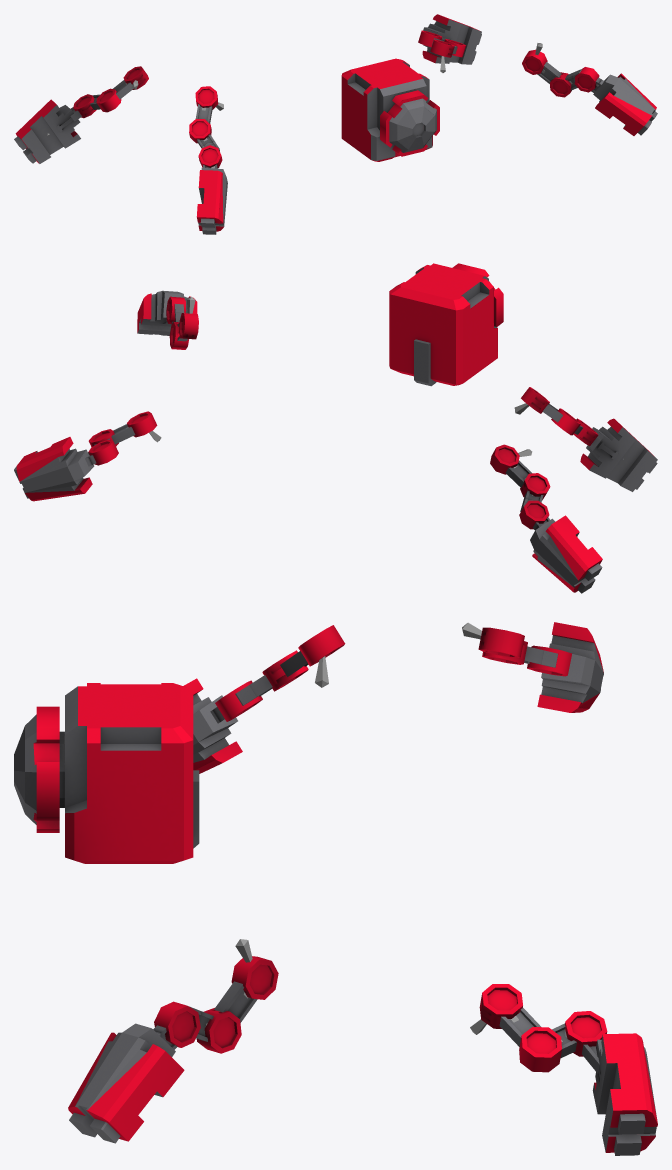
The model's file is Monster1_Die9.obj.
3 views of the same model, one above another, from view 1: azimuth 30°, elevation 25°; view 2: azimuth 150°, elevation 25°; view 3: azimuth 270°, elevation 25° (orthographic). The views are drawn at different scales.
Visible parts, largest first — view 1: Box006, Object025, Object017, Object021, Object013, Object018, Object022, Object026, Object023, Object019, Object020, Object027 (+3 smaller); view 2: Box006, Object013, Object025, Object021, Object017, Object026, Object014, Object027, Object028, Object022, Object016, Object018; view 3: Box006, Object017, Object013, Object025, Object021, Object018, Object014, Object015, Object020, Object019, Object016, Object022 (+4 smaller).
Part boxes in pixels (bbox=[...]): Box006: bbox=[341, 58, 439, 161]; Object025: bbox=[14, 99, 80, 163]; Object017: bbox=[593, 73, 657, 135]; Object021: bbox=[196, 168, 227, 234]; Object013: bbox=[422, 14, 481, 64]; Object018: bbox=[522, 49, 561, 83]; Object022: bbox=[195, 86, 218, 123]; Object026: bbox=[113, 66, 148, 99]; Object023: bbox=[189, 119, 219, 151]; Object019: bbox=[550, 69, 581, 97]; Object020: bbox=[574, 67, 603, 92]; Object027: bbox=[90, 88, 121, 112]; Box006: bbox=[389, 263, 503, 386]; Object013: bbox=[14, 437, 94, 501]; Object025: bbox=[530, 515, 602, 593]; Object021: bbox=[580, 418, 657, 491]; Object017: bbox=[137, 290, 197, 335]; Object026: bbox=[490, 444, 531, 487]; Object014: bbox=[111, 411, 157, 444]; Object027: bbox=[520, 473, 550, 511]; Object028: bbox=[519, 500, 549, 530]; Object022: bbox=[521, 387, 562, 422]; Object016: bbox=[85, 439, 118, 466]; Object018: bbox=[177, 313, 198, 341]; Box006: bbox=[14, 683, 199, 863]; Object017: bbox=[68, 1023, 184, 1143]; Object013: bbox=[592, 1033, 657, 1155]; Object025: bbox=[537, 622, 603, 712]; Object021: bbox=[183, 678, 242, 773]; Object018: bbox=[214, 956, 278, 1022]; Object014: bbox=[479, 984, 540, 1046]; Object015: bbox=[519, 1023, 576, 1072]; Object020: bbox=[153, 1001, 200, 1049]; Object019: bbox=[189, 1006, 241, 1053]; Object016: bbox=[565, 1011, 607, 1073]; Object022: bbox=[280, 625, 345, 676].
Size of the model in its own units: 438 by 111 by 254.
